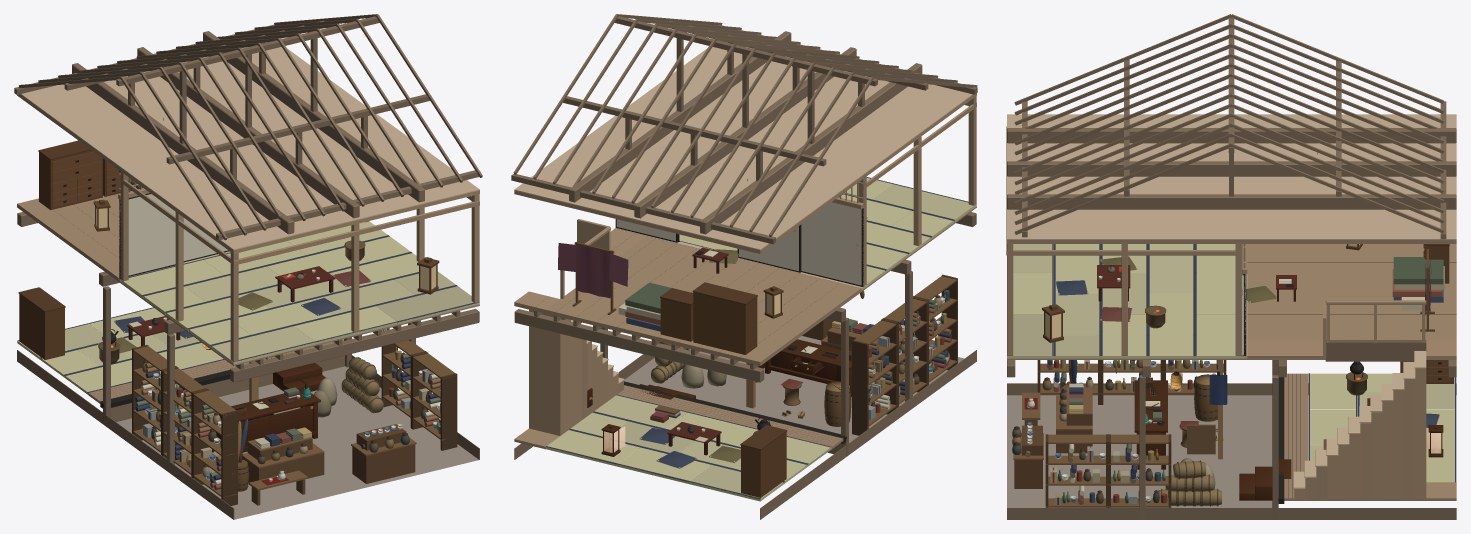
File: interior.glb
3 renders of one model, left to right at view 1: azimuth 30°, elevation 25°; view 2: azimuth 150°, elevation 25°; view 3: azimuth 270°, elevation 25°, orthographic. The views are drawn at different scales.
Visible parts, largest first — view 1: BldgA_Interior_Structure, Hybrid_Sonnet_shop, Hybrid_Sonnet_upper, Hybrid_Sonnet_raised, Counter top,slightly offset, Inferred platform approach step2; view 2: BldgA_Interior_Structure, Hybrid_Sonnet_shop, Hybrid_Sonnet_upper, Hybrid_Sonnet_raised, Counter top,slightly offset; view 3: BldgA_Interior_Structure, Hybrid_Sonnet_shop, Hybrid_Sonnet_upper, Hybrid_Sonnet_raised, Counter top,slightly offset, Inferred platform approach step2.
Boxes of the visible parts, left/top/right/bottom form: BldgA_Interior_Structure: left=14, top=14, right=482, bottom=519; Hybrid_Sonnet_shop: left=132, top=328, right=457, bottom=505; Hybrid_Sonnet_upper: left=38, top=118, right=439, bottom=315; Hybrid_Sonnet_raised: left=18, top=287, right=192, bottom=364; Counter top,slightly offset: left=216, top=388, right=320, bottom=421; Inferred platform approach step2: left=274, top=363, right=322, bottom=390; BldgA_Interior_Structure: left=511, top=14, right=977, bottom=519; Hybrid_Sonnet_shop: left=651, top=274, right=957, bottom=435; Hybrid_Sonnet_upper: left=558, top=96, right=867, bottom=354; Hybrid_Sonnet_raised: left=639, top=405, right=787, bottom=497; Counter top,slightly offset: left=779, top=339, right=851, bottom=369; BldgA_Interior_Structure: left=1006, top=14, right=1456, bottom=519; Hybrid_Sonnet_shop: left=1012, top=360, right=1227, bottom=507; Hybrid_Sonnet_upper: left=1042, top=153, right=1449, bottom=342; Hybrid_Sonnet_raised: left=1323, top=360, right=1453, bottom=449; Counter top,slightly offset: left=1134, top=380, right=1167, bottom=432; Inferred platform approach step2: left=1255, top=466, right=1272, bottom=500.
Size of the model in its own units: 6 by 8.01 by 8.6.
Materials: 22 (2 with a texture image).
